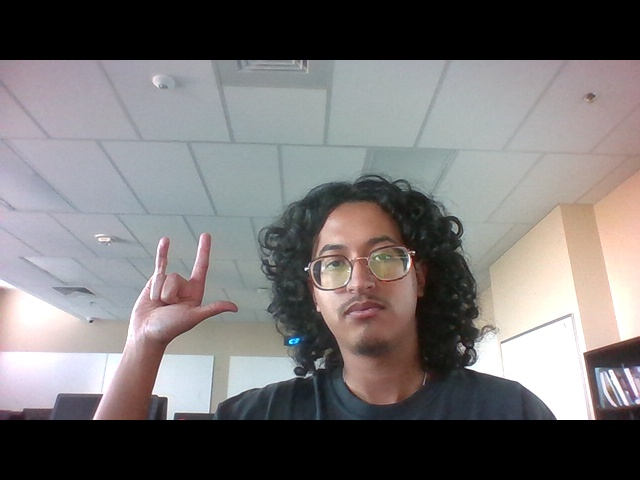iloveyou: (123, 227, 244, 351)
